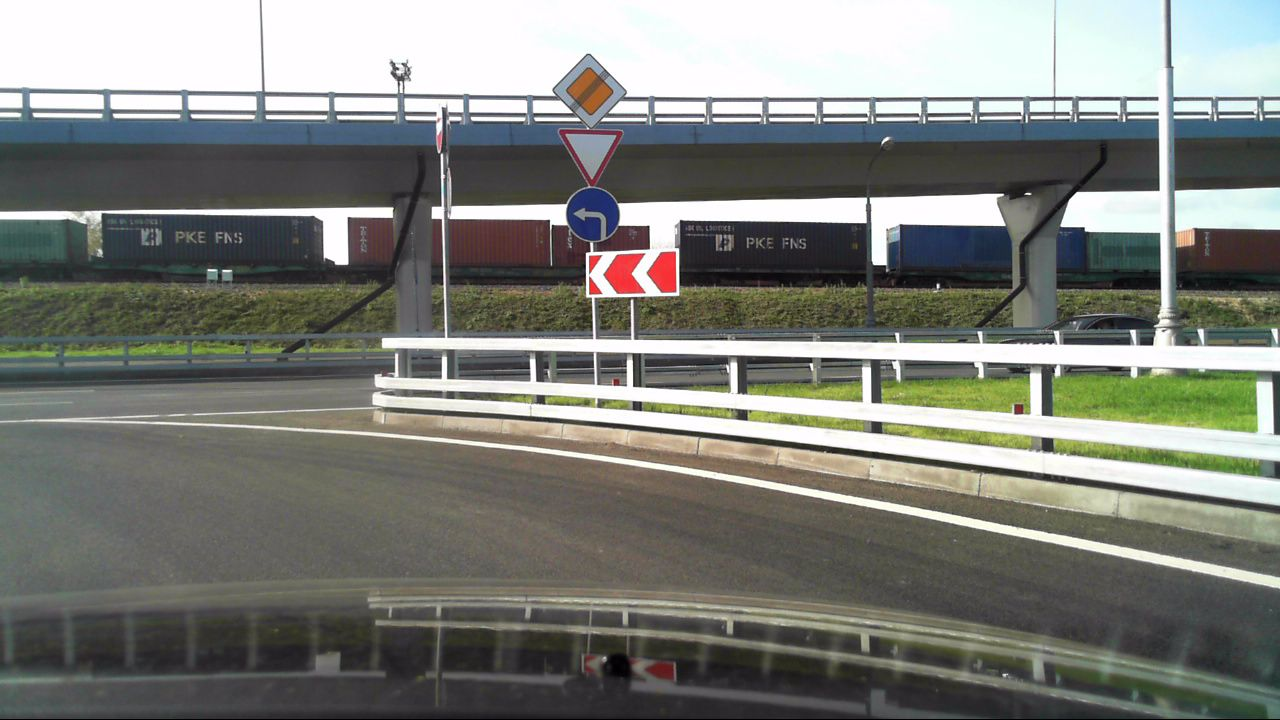main road: (548, 52, 628, 131)
